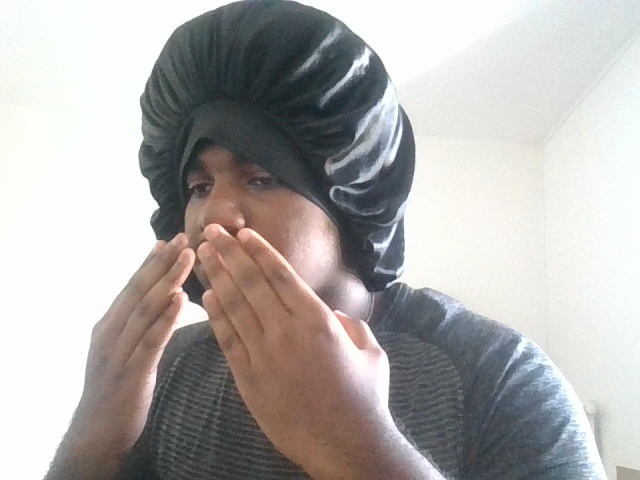Thank You: (32, 212, 446, 456)
